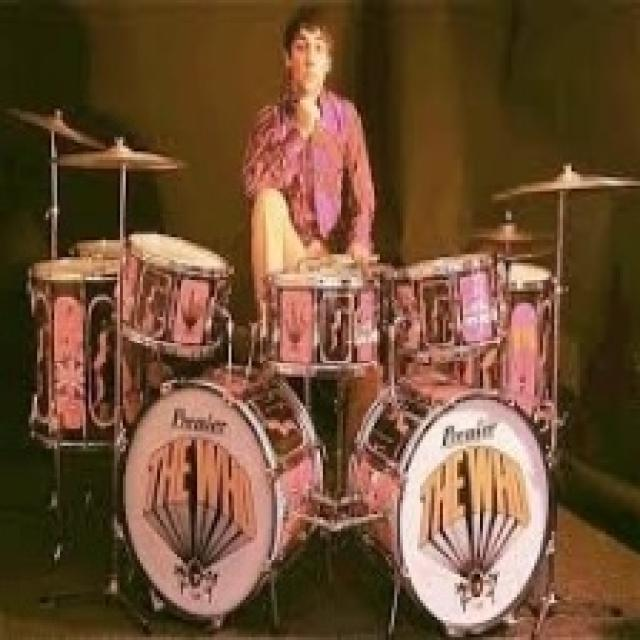drums: (7, 140, 640, 630)
